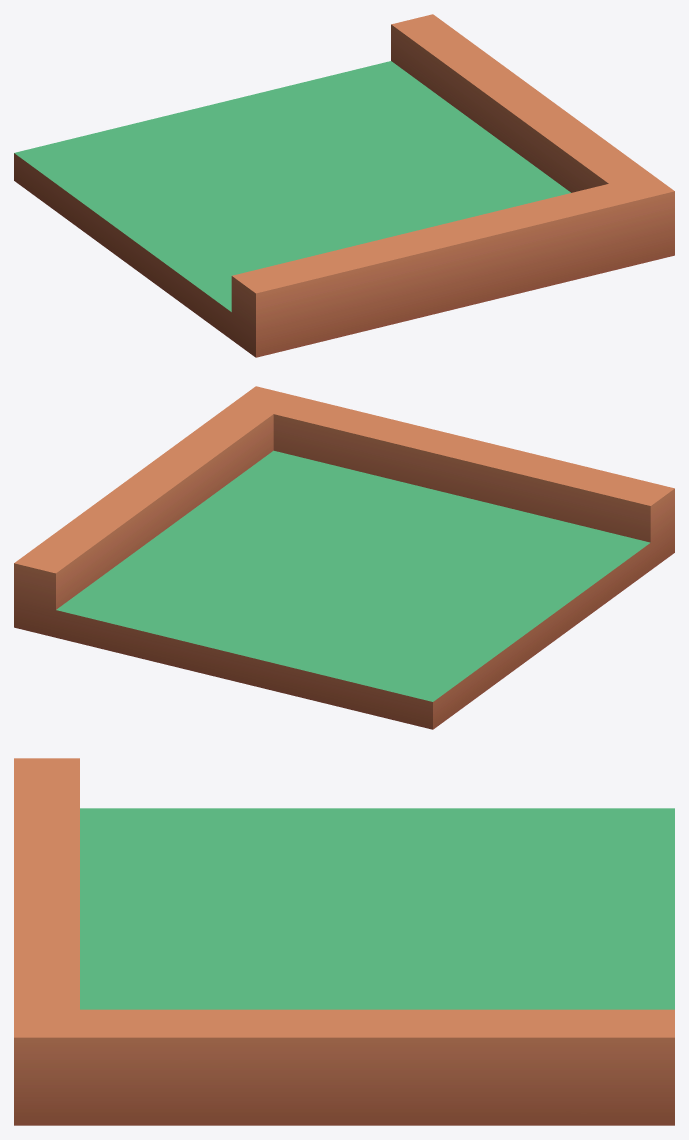
The model's file is corner.glb.
3 renders of one model, top to bottom at view 1: azimuth 30°, elevation 25°; view 2: azimuth 150°, elevation 25°; view 3: azimuth 270°, elevation 25°, orthographic. The views are drawn at different scales.
Visible parts, largest first — view 1: corner; view 2: corner; view 3: corner.
Part boxes in pixels (box(x1,y1,x2,y2)): corner: box(14, 14, 674, 357); corner: box(14, 386, 674, 729); corner: box(14, 758, 674, 1125).
Size of the model in its own units: 0.9999 by 0.1466 by 0.9999.
Materials: 1 (1 with a texture image).
